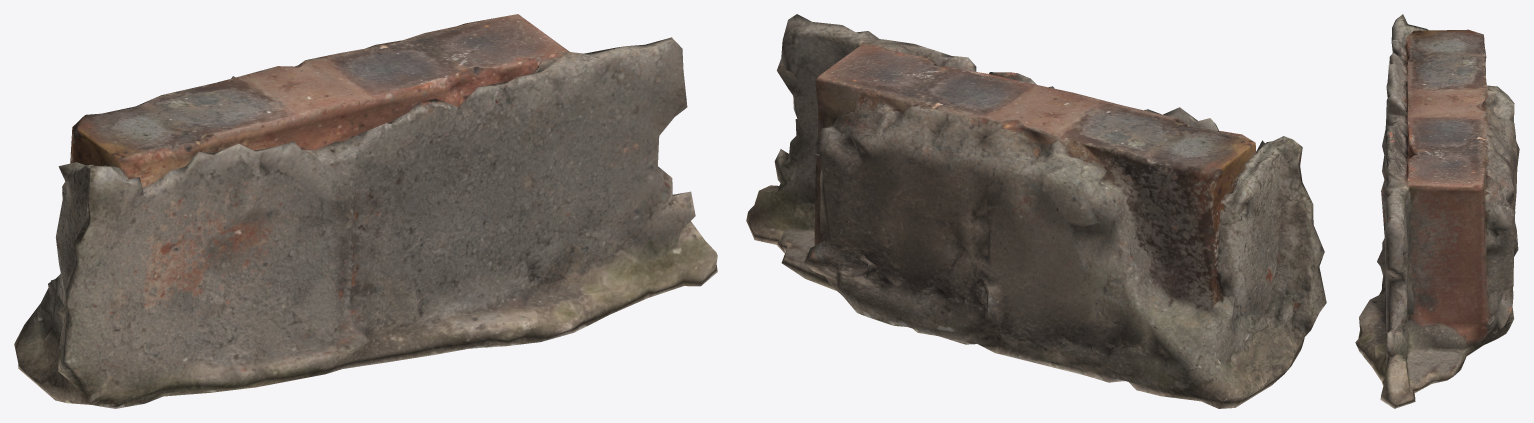
File: PX_Brick_Ruins_20_LOD5.fbx
3 views of the same model, side by side, from view 1: azimuth 30°, elevation 25°; view 2: azimuth 150°, elevation 25°; view 3: azimuth 270°, elevation 25° (orthographic). The views are drawn at different scales.
Visible parts, largest first — view 1: PX_Brick_Ruins_20_LOD5; view 2: PX_Brick_Ruins_20_LOD5; view 3: PX_Brick_Ruins_20_LOD5.
Part boxes in pixels (box(x1,y1,x2,y2)): PX_Brick_Ruins_20_LOD5: box(14, 14, 717, 408); PX_Brick_Ruins_20_LOD5: box(746, 14, 1326, 408); PX_Brick_Ruins_20_LOD5: box(1355, 14, 1519, 408).
Bounding box in the file's own units: 38.72 × 14.59 × 11.9.
